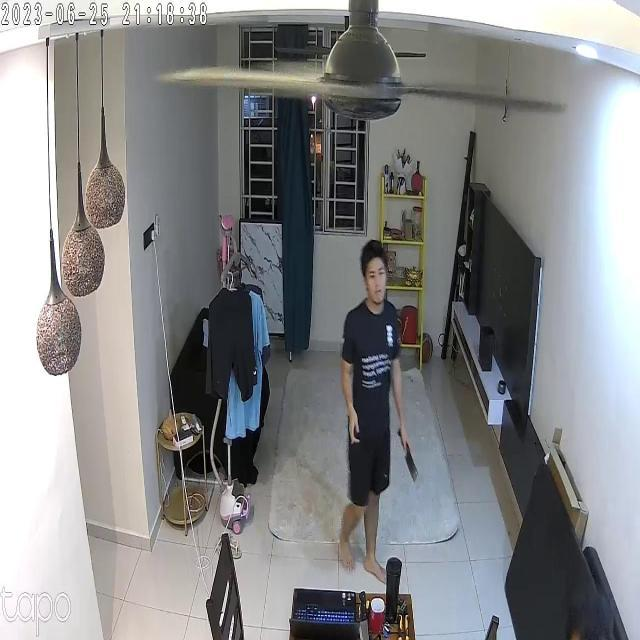Knife: (394, 428, 429, 489)
